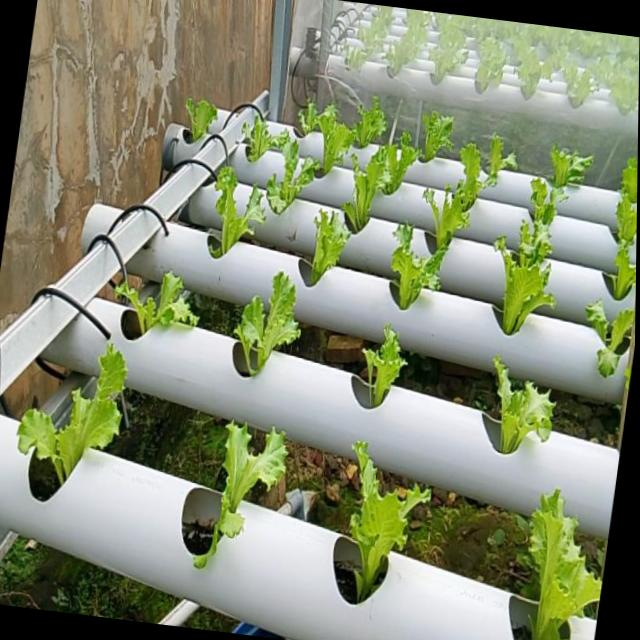Baby: (18, 341, 126, 482), (194, 419, 288, 566), (351, 439, 432, 600), (529, 488, 602, 640), (235, 268, 300, 372), (422, 162, 496, 252), (494, 355, 554, 451), (341, 142, 403, 232), (112, 265, 198, 328), (208, 162, 265, 255), (403, 102, 462, 189), (265, 130, 319, 213), (298, 98, 354, 173), (502, 249, 550, 334), (511, 196, 555, 286), (585, 298, 633, 377), (364, 322, 406, 404), (306, 207, 350, 284), (391, 223, 428, 307), (241, 107, 288, 160), (481, 132, 517, 187), (615, 164, 638, 245), (550, 144, 593, 187), (352, 94, 386, 146), (185, 93, 217, 135)
